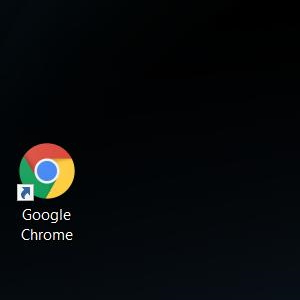chrome: (16, 143, 75, 201)
